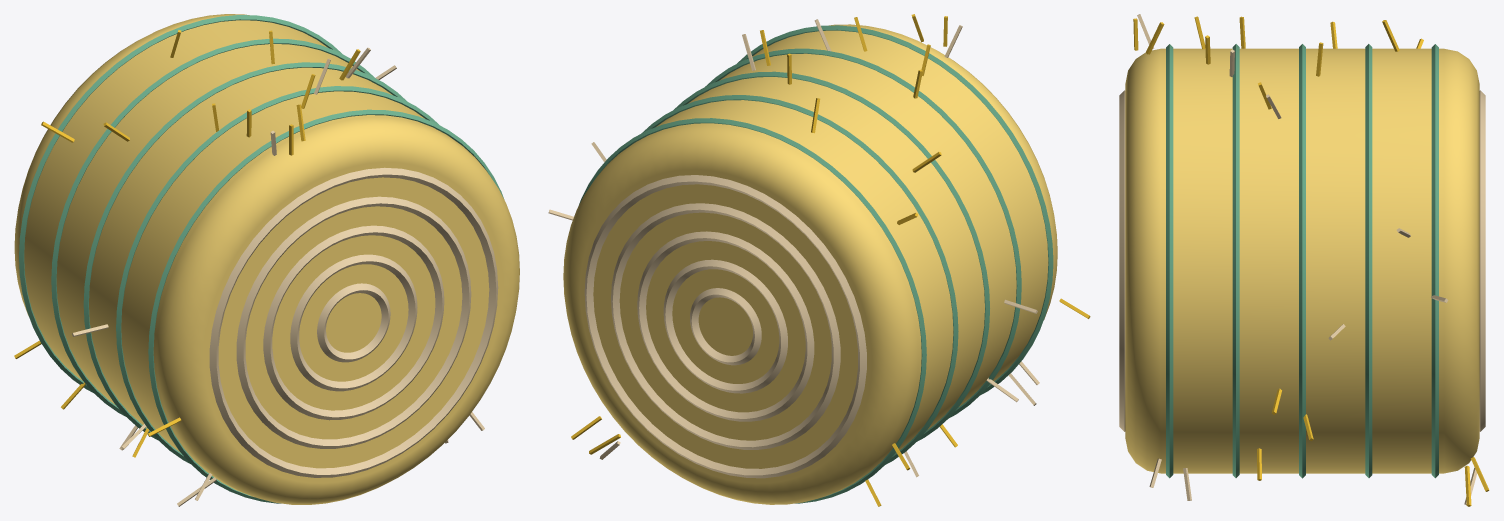
The model's file is hay_bale.glb.
The picture shows the model from 3 angles, left to right: view 1: azimuth 30°, elevation 25°; view 2: azimuth 150°, elevation 25°; view 3: azimuth 270°, elevation 25°; orthographic projection. The views are drawn at different scales.
Visible parts, largest first — view 1: hay_bale; view 2: hay_bale; view 3: hay_bale.
Boxes of the visible parts, x1,y1,x2,y2 form: hay_bale: (14, 14, 519, 506); hay_bale: (548, 14, 1090, 506); hay_bale: (1119, 14, 1489, 506).
Size of the model in its own units: 1.7 by 1.56 by 1.25.
Materials: 1 (1 with a texture image).
